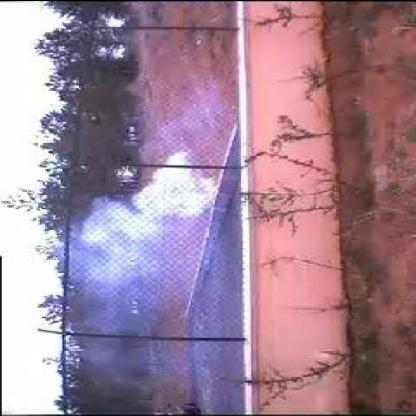-: (65, 152, 235, 336)
